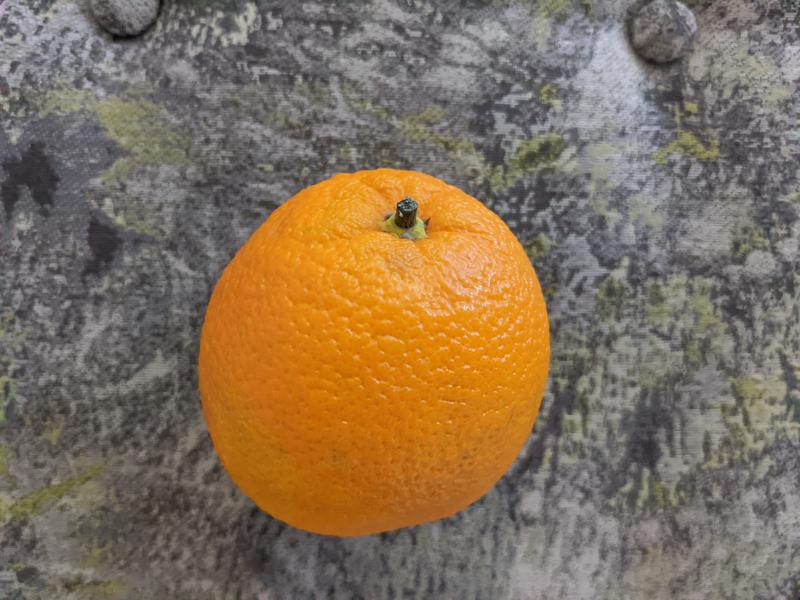orange: (195, 167, 552, 539)
